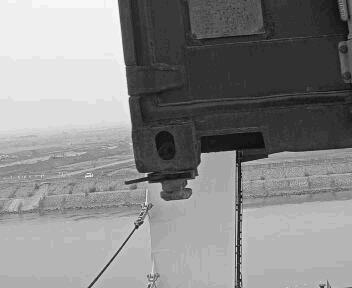twist_lock_1: (175, 161, 241, 200)
